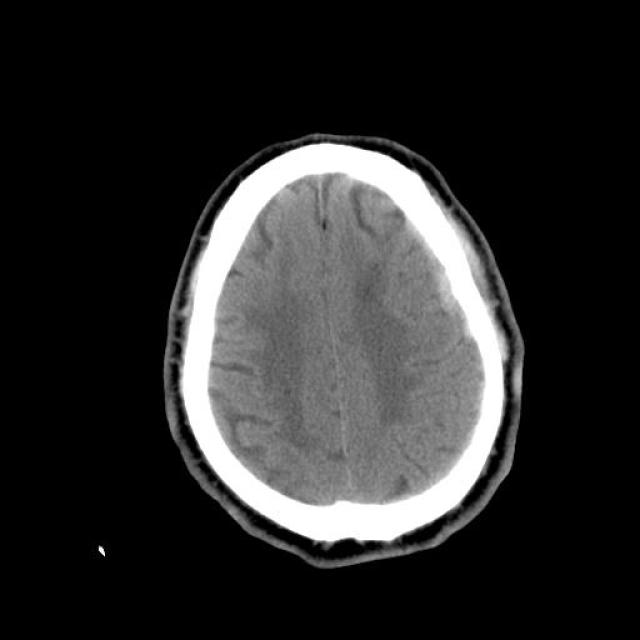Subdural: (398, 201, 508, 374)
